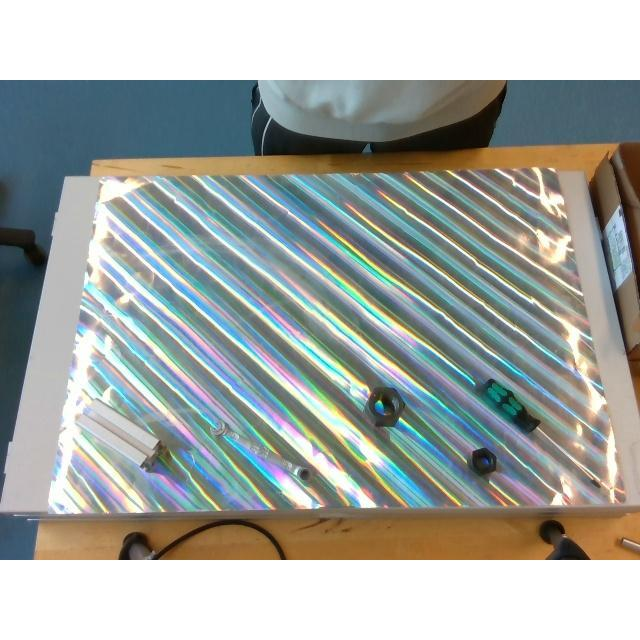M20: (469, 446, 497, 474)
M30: (366, 387, 406, 427)
S40_40_G: (74, 398, 166, 474)
Screwdriver: (481, 379, 601, 488)
Wrench: (210, 419, 314, 483)
